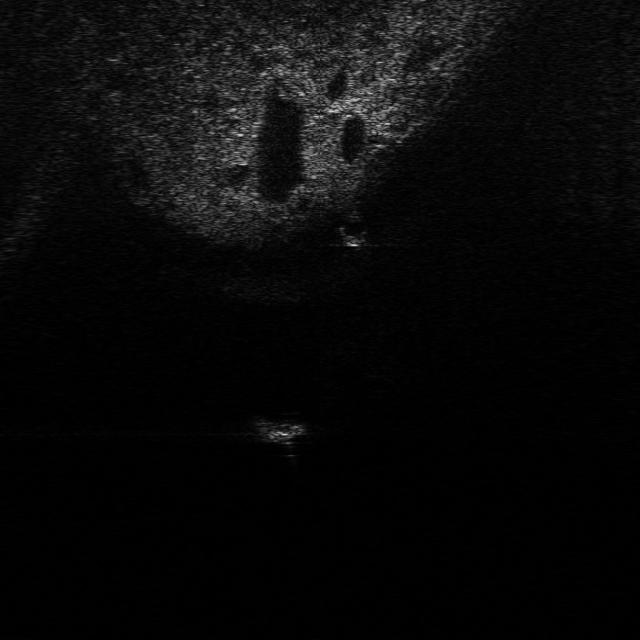ball: (334, 210, 370, 248)
cube: (247, 407, 311, 444)
